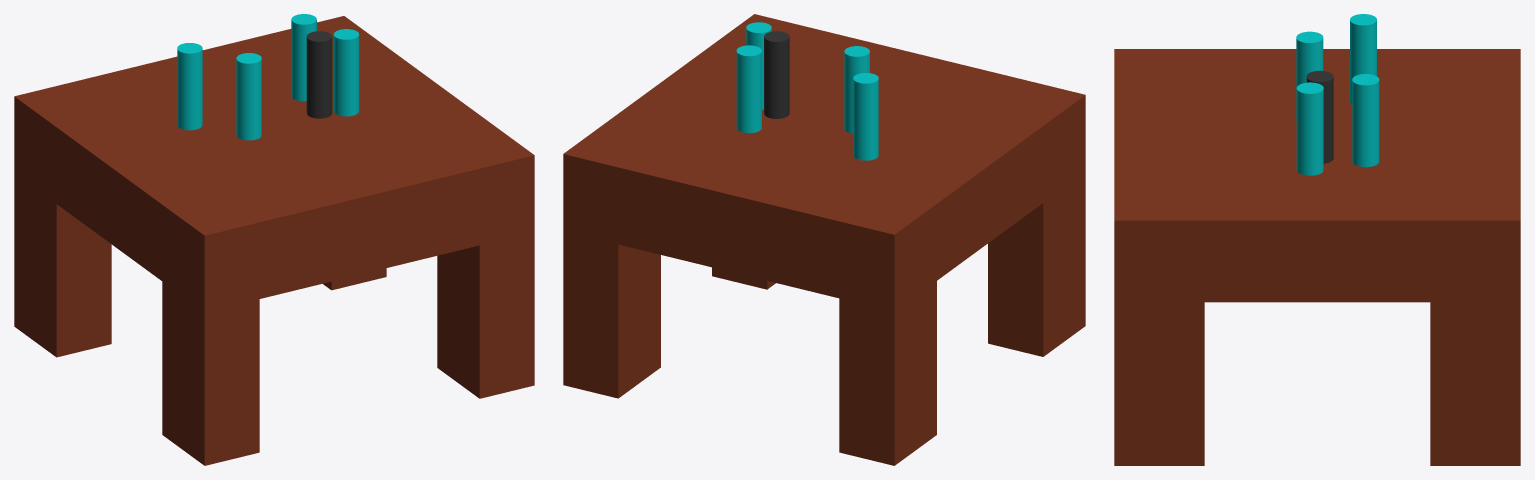
The model's file is can_world_5_cans.dae.
3 renders of one model, left to right at view 1: azimuth 30°, elevation 25°; view 2: azimuth 150°, elevation 25°; view 3: azimuth 270°, elevation 25°, orthographic. The views are drawn at different scales.
Parts seen in each view (by area): view 1: base (×10); view 2: base (×10); view 3: base (×8).
Part boxes in pixels (box(x1,y1,x2,y2)): base (×10): box(14, 14, 534, 465); base (×10): box(563, 14, 1085, 465); base (×8): box(1114, 14, 1520, 465).
Bounding box in the file's own units: 0.9 × 0.9 × 0.801.
